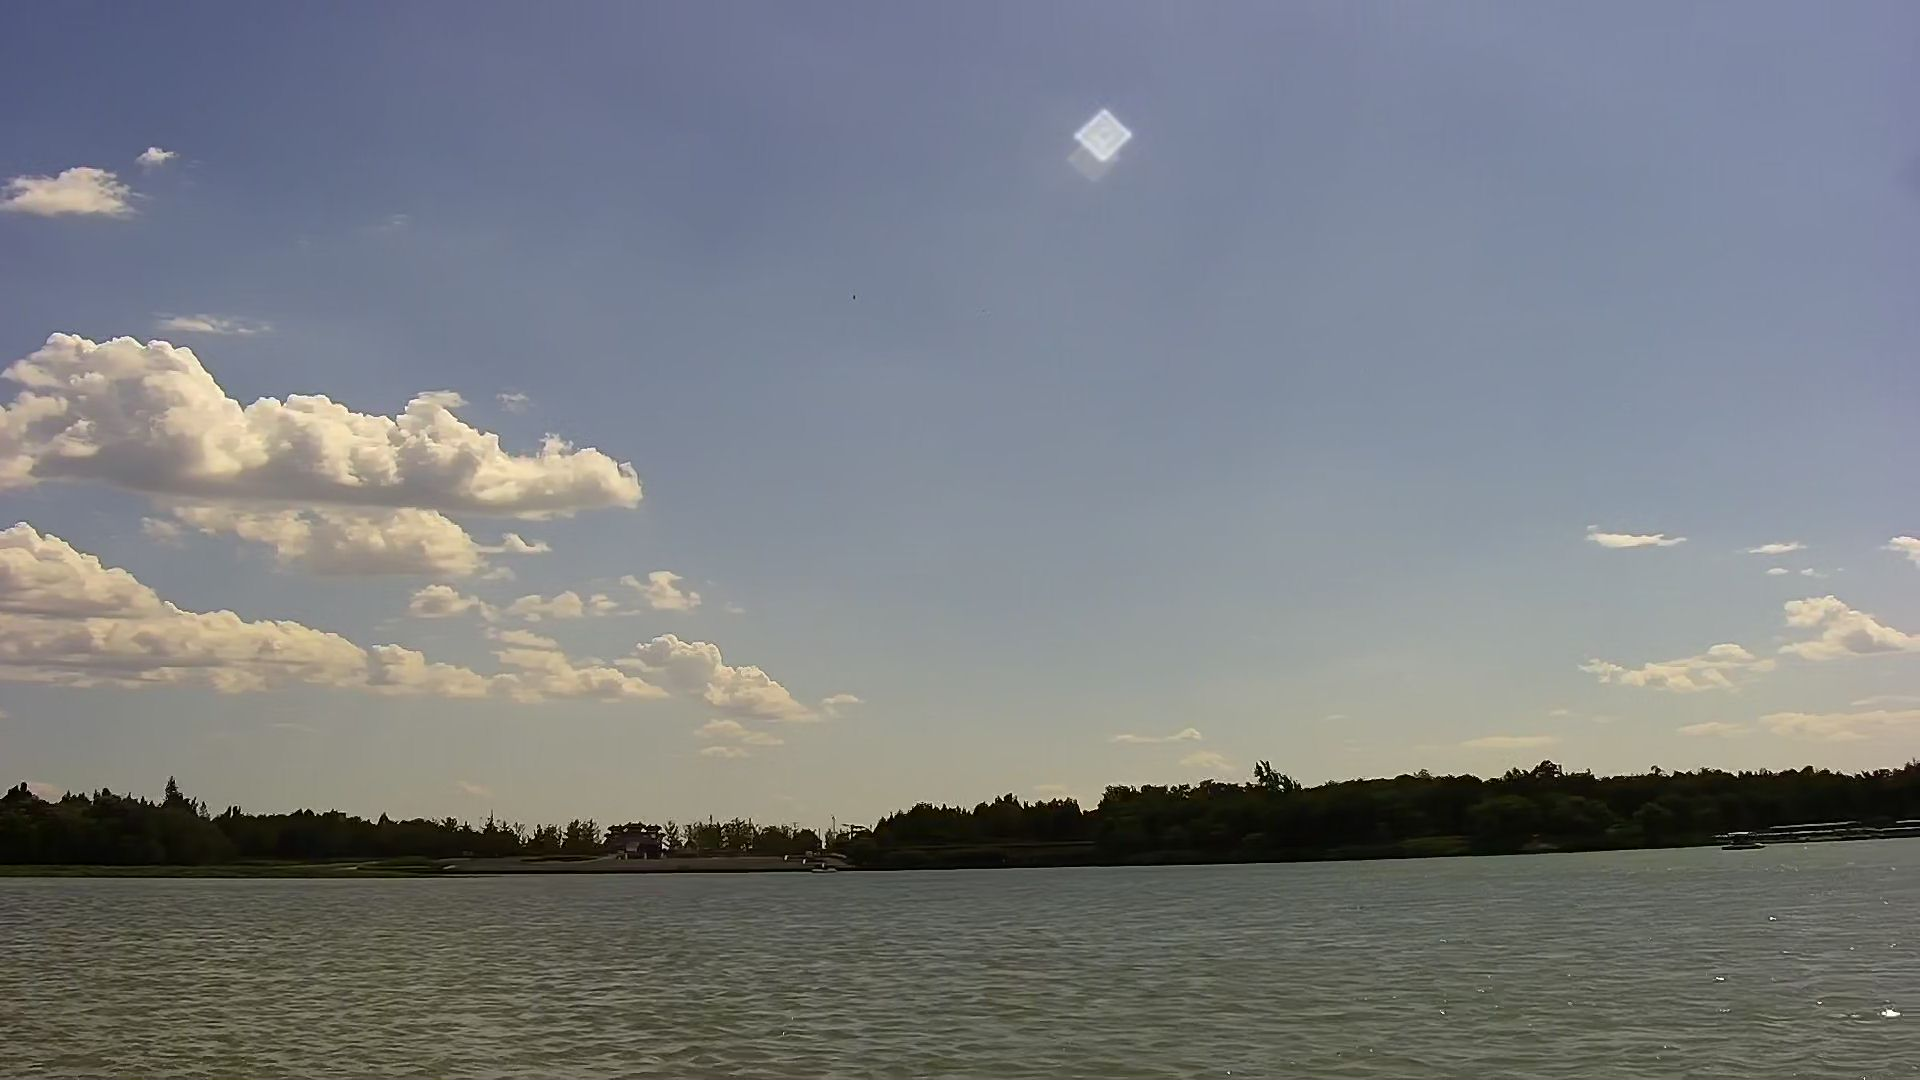boat: (1727, 829, 1760, 856)
